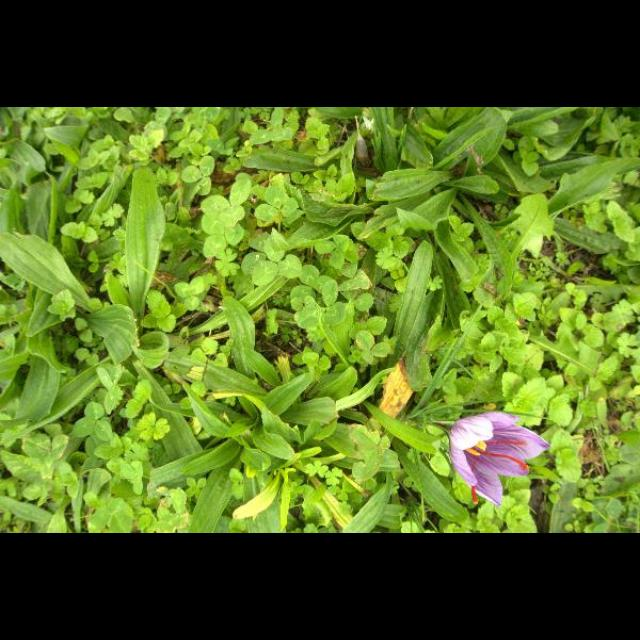flower: (448, 412, 552, 506)
